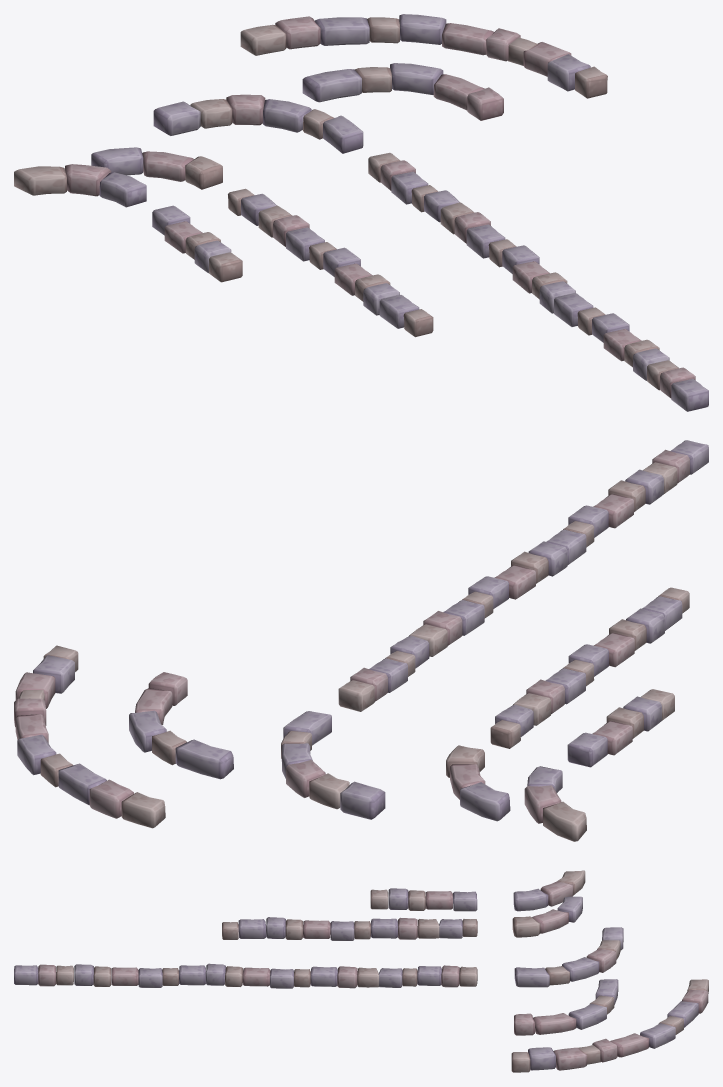
The model's file is road_1.fbx.
The picture shows the model from 3 angles, top to bottom: view 1: azimuth 30°, elevation 25°; view 2: azimuth 150°, elevation 25°; view 3: azimuth 270°, elevation 25°; orthographic projection. The views are drawn at different scales.
Visible parts, largest first — view 1: SM_PavementEdge_006, SM_PavementEdge_001, SM_PavementEdge_007, SM_PavementEdge_004, SM_PavementEdge_005, SM_PavementEdge_003, SM_PavementEdge_002, SM_PavementEdge_000; view 2: SM_PavementEdge_006, SM_PavementEdge_001, SM_PavementEdge_007, SM_PavementEdge_004, SM_PavementEdge_005, SM_PavementEdge_000, SM_PavementEdge_002, SM_PavementEdge_003; view 3: SM_PavementEdge_006, SM_PavementEdge_007, SM_PavementEdge_001, SM_PavementEdge_004, SM_PavementEdge_005, SM_PavementEdge_000, SM_PavementEdge_003, SM_PavementEdge_002.
Part boxes in pixels (x1=…): SM_PavementEdge_006: x1=368, y1=152, x2=708, y2=411; SM_PavementEdge_001: x1=240, y1=14, x2=607, y2=98; SM_PavementEdge_007: x1=228, y1=188, x2=433, y2=337; SM_PavementEdge_004: x1=153, y1=94, x2=363, y2=153; SM_PavementEdge_005: x1=302, y1=63, x2=503, y2=120; SM_PavementEdge_003: x1=14, y1=164, x2=146, y2=207; SM_PavementEdge_002: x1=91, y1=147, x2=222, y2=189; SM_PavementEdge_000: x1=152, y1=205, x2=242, y2=282; SM_PavementEdge_006: x1=338, y1=440, x2=708, y2=711; SM_PavementEdge_001: x1=14, y1=645, x2=165, y2=828; SM_PavementEdge_007: x1=490, y1=587, x2=689, y2=748; SM_PavementEdge_004: x1=281, y1=711, x2=385, y2=819; SM_PavementEdge_005: x1=129, y1=672, x2=233, y2=779; SM_PavementEdge_000: x1=567, y1=689, x2=674, y2=767; SM_PavementEdge_002: x1=446, y1=745, x2=510, y2=821; SM_PavementEdge_003: x1=524, y1=766, x2=586, y2=841; SM_PavementEdge_006: x1=14, y1=963, x2=477, y2=988; SM_PavementEdge_007: x1=222, y1=917, x2=477, y2=940; SM_PavementEdge_001: x1=511, y1=979, x2=708, y2=1072; SM_PavementEdge_004: x1=514, y1=927, x2=623, y2=987; SM_PavementEdge_005: x1=514, y1=979, x2=618, y2=1035; SM_PavementEdge_000: x1=370, y1=888, x2=477, y2=911; SM_PavementEdge_003: x1=513, y1=870, x2=585, y2=911; SM_PavementEdge_002: x1=512, y1=896, x2=582, y2=937.
Bounding box in the file's own units: 361 × 13.87 × 560.
